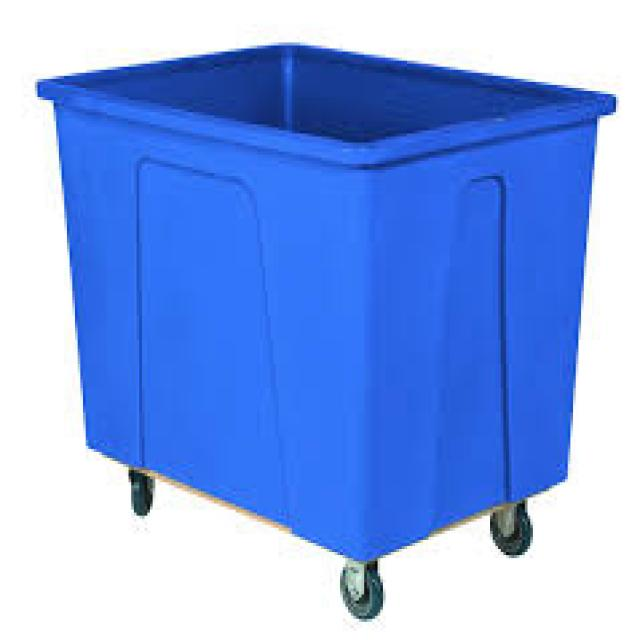basket: (0, 12, 621, 590)
